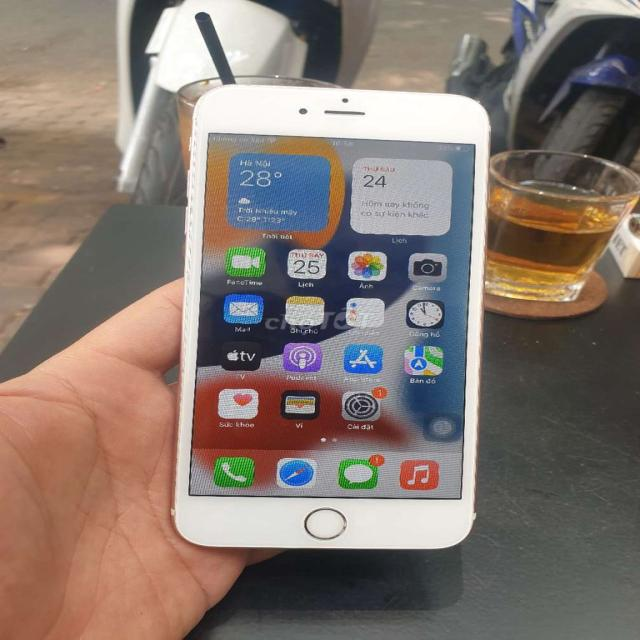gen_6: (171, 79, 497, 558)
